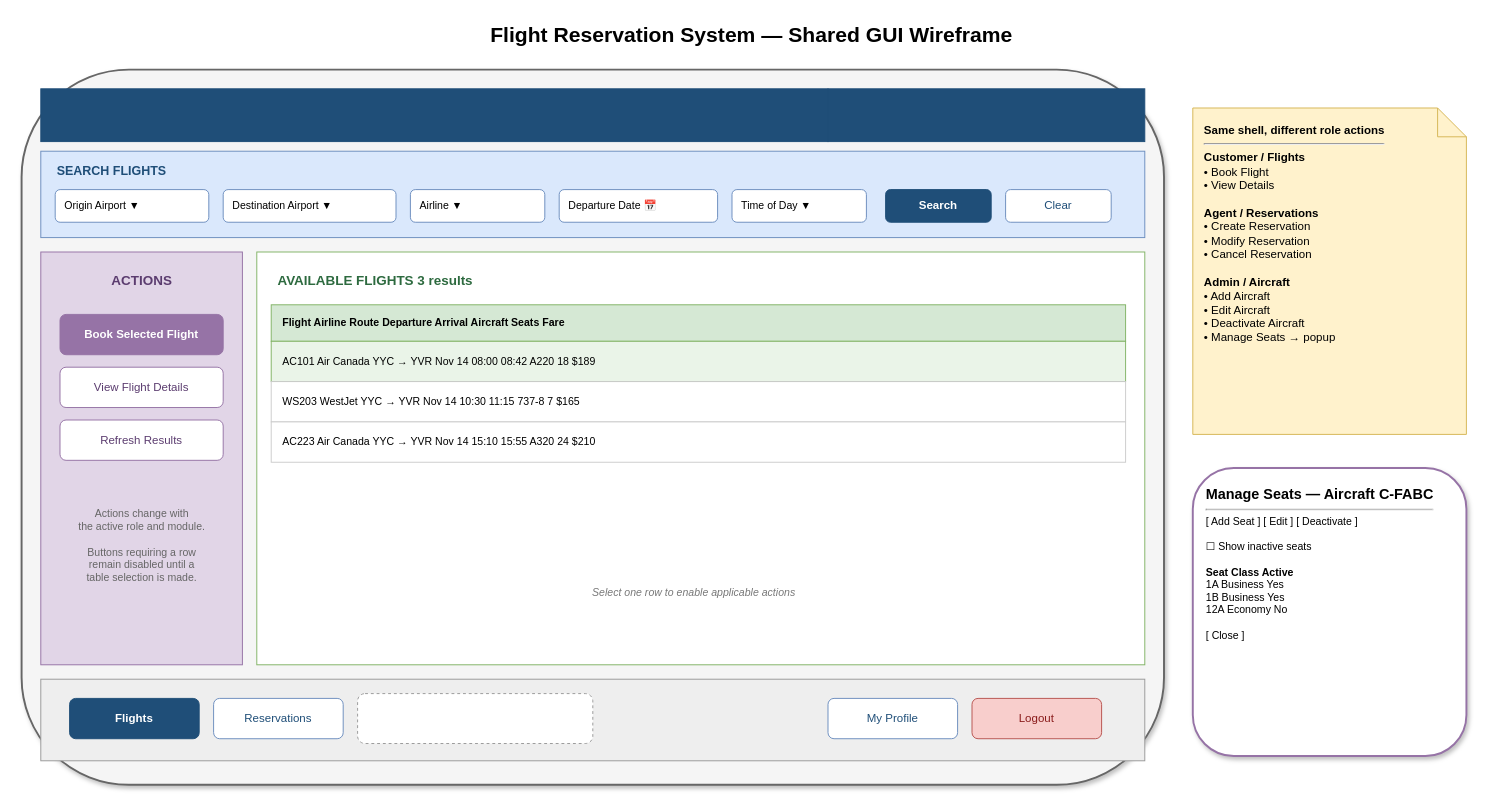
The diagram is 1489 pixels wide and 808 high, and some of its shapes have lost their labels. The centre of each missing label's shape, as x and y in pixels:
"Customer: Jane Doe ⚙" belongs at (x=986, y=115).
"Customers / Routes / Aircraft (shown only when role permits)" belongs at (x=475, y=718).
"✈ Flight Reservation System" belongs at (x=434, y=115).
